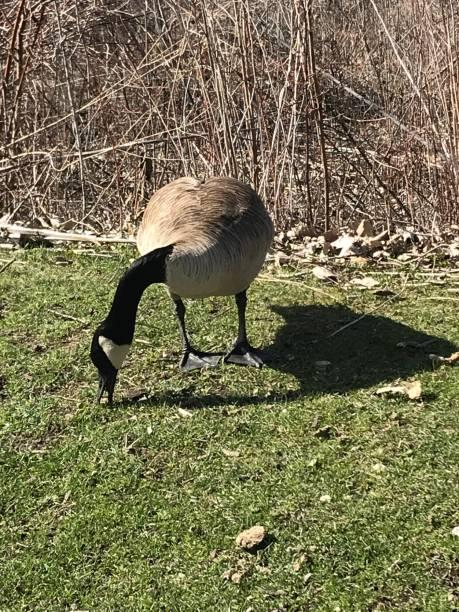Canadian-Goose: (87, 175, 273, 409)
